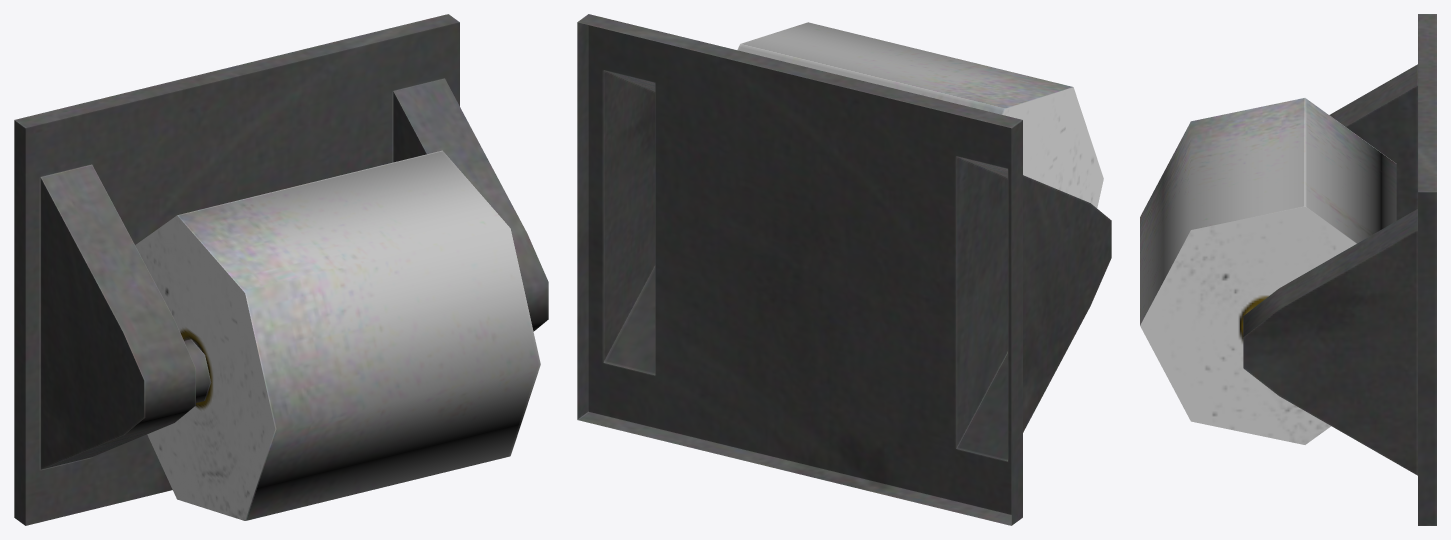
Rendered from toilet_paper_roll.FBX.
The picture shows the model from 3 angles, left to right: view 1: azimuth 30°, elevation 25°; view 2: azimuth 150°, elevation 25°; view 3: azimuth 270°, elevation 25°; orthographic projection. The views are drawn at different scales.
Visible parts, largest first — view 1: ToiletPaperHolder; view 2: ToiletPaperHolder; view 3: ToiletPaperHolder.
Part boxes in pixels (<box>): ToiletPaperHolder: <box>14,14,548,525</box>; ToiletPaperHolder: <box>577,14,1111,525</box>; ToiletPaperHolder: <box>1140,14,1436,525</box>.
Bounding box in the file's own units: 80 × 70 × 56.39.
Materials: 1 (1 with a texture image).
